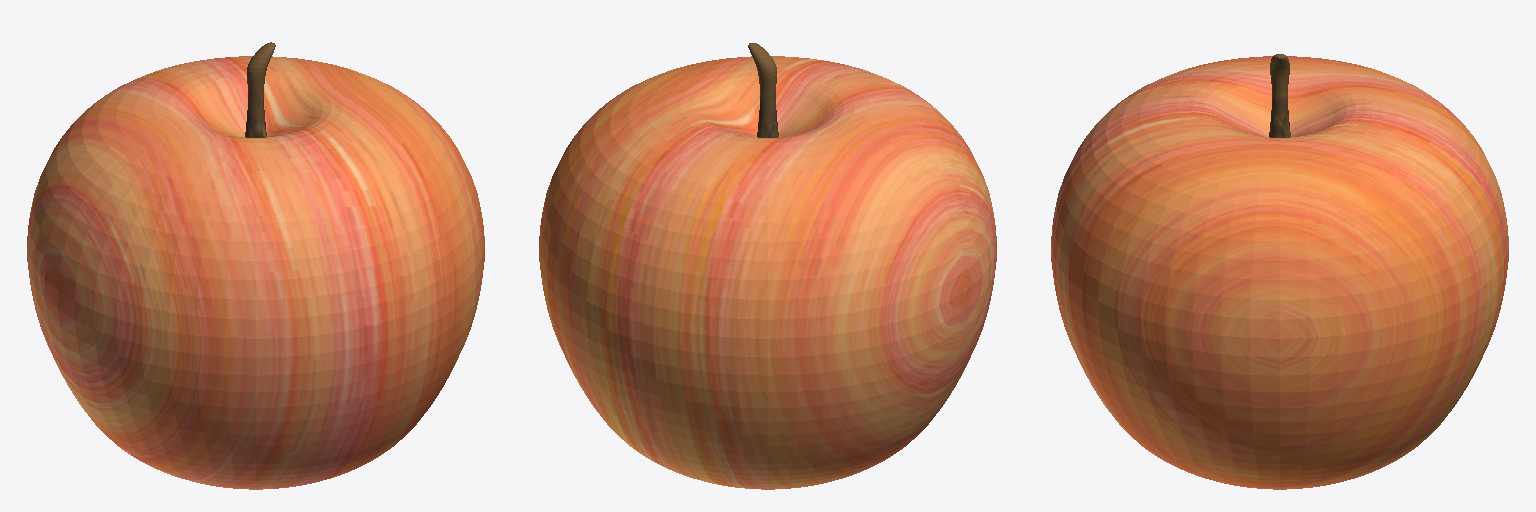
3 renders of one model, left to right at view 1: azimuth 30°, elevation 25°; view 2: azimuth 150°, elevation 25°; view 3: azimuth 270°, elevation 25°, orthographic.
Parts seen in each view (by area): view 1: Circle, Circle.001; view 2: Circle, Circle.001; view 3: Circle, Circle.001.
Part boxes in pixels (left/top/right/bottom): Circle: left=27, top=56, right=484, bottom=489; Circle.001: left=245, top=42, right=275, bottom=137; Circle: left=539, top=56, right=996, bottom=489; Circle.001: left=748, top=43, right=778, bottom=137; Circle: left=1051, top=56, right=1508, bottom=489; Circle.001: left=1269, top=54, right=1290, bottom=137.
Bounding box in the file's own units: 2.25 × 2.26 × 2.25.
Materials: 2 (2 with a texture image).